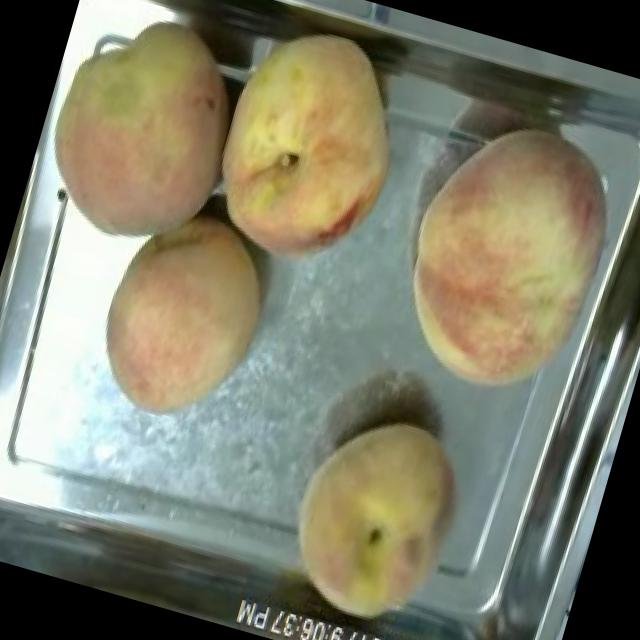Fruit: (369, 96, 640, 424), (188, 0, 434, 292), (17, 0, 255, 265), (73, 182, 294, 442), (262, 390, 486, 640)
